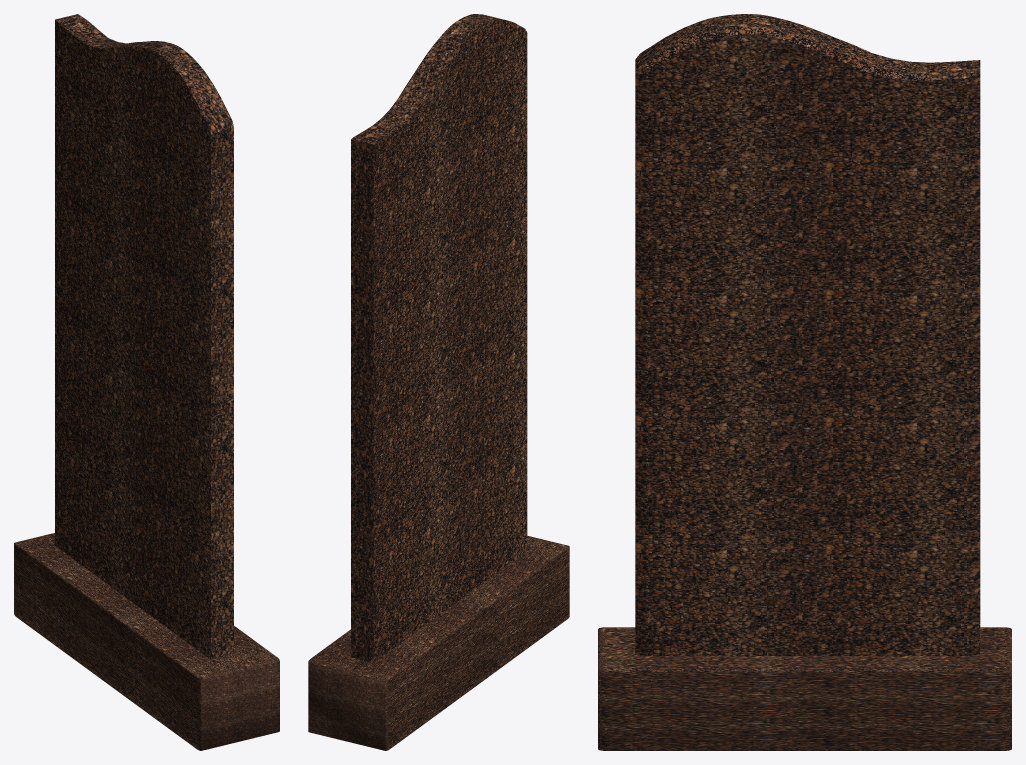
Rendered from Памятник вола Дымовски [granite_u_u] (100).glb.
3 renders of one model, left to right at view 1: azimuth 30°, elevation 25°; view 2: azimuth 150°, elevation 25°; view 3: azimuth 270°, elevation 25°, orthographic. The views are drawn at different scales.
Visible parts, largest first — view 1: Куб.001; view 2: Куб.001; view 3: Куб.001.
Boxes of the visible parts, x1,y1,x2,y2 form: Куб.001: (14,14,279,750); Куб.001: (308,14,569,750); Куб.001: (598,14,1011,750).
Bounding box in the file's own units: 0.15 × 1.13 × 0.6.
Materials: 1 (1 with a texture image).
